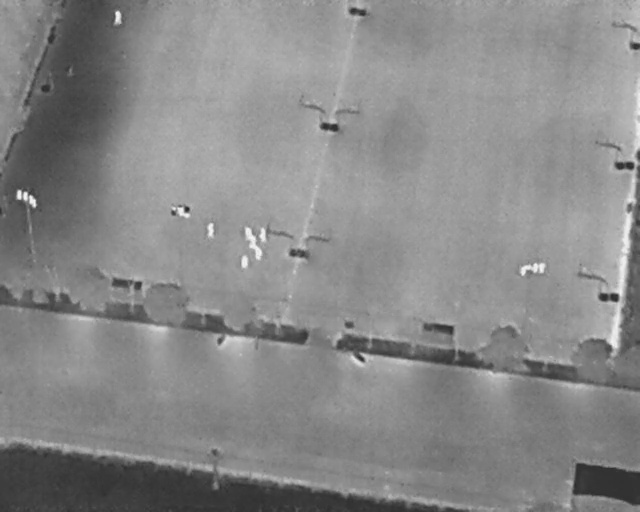Person: (258, 227, 267, 245), (206, 222, 215, 239), (244, 225, 253, 242), (240, 255, 249, 271), (114, 10, 122, 26), (255, 246, 263, 262), (249, 235, 257, 249)
